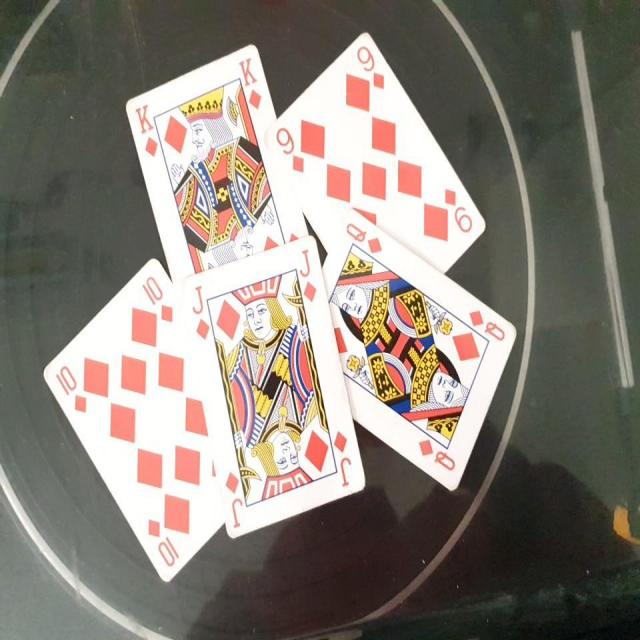10 Diamonds: (42, 257, 223, 582)
9 Diamonds: (264, 31, 488, 277)
J Diamonds: (178, 234, 368, 541)
K Diamonds: (124, 43, 308, 279)
Q Diamonds: (322, 204, 520, 493)
